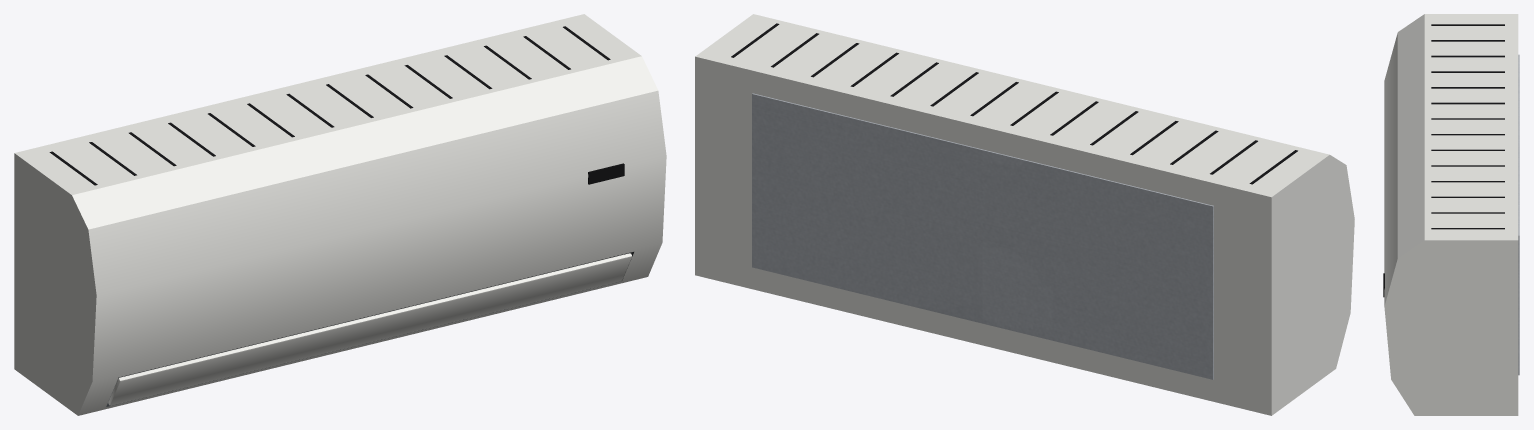
3 views of the same model, side by side, from view 1: azimuth 30°, elevation 25°; view 2: azimuth 150°, elevation 25°; view 3: azimuth 270°, elevation 25° (orthographic). The views are drawn at different scales.
Visible parts, largest first — view 1: wall-ac-body, wall-ac-louver, wall-ac-intake; view 2: wall-ac-body, wall-ac-mount, wall-ac-intake; view 3: wall-ac-body, wall-ac-intake, wall-ac-mount.
Boxes of the visible parts, left/top/right/bottom form: wall-ac-body: left=14, top=14, right=666, bottom=415; wall-ac-louver: left=108, top=253, right=631, bottom=405; wall-ac-intake: left=49, top=26, right=610, bottom=185; wall-ac-body: left=695, top=14, right=1354, bottom=415; wall-ac-mount: left=752, top=93, right=1213, bottom=379; wall-ac-intake: left=731, top=23, right=1297, bottom=184; wall-ac-body: left=1384, top=14, right=1518, bottom=415; wall-ac-intake: left=1431, top=24, right=1504, bottom=229; wall-ac-mount: left=1518, top=54, right=1519, bottom=375.
Bounding box in the file's own units: 0.8 × 0.2905 × 0.2035.
6 materials, 4 textured.
